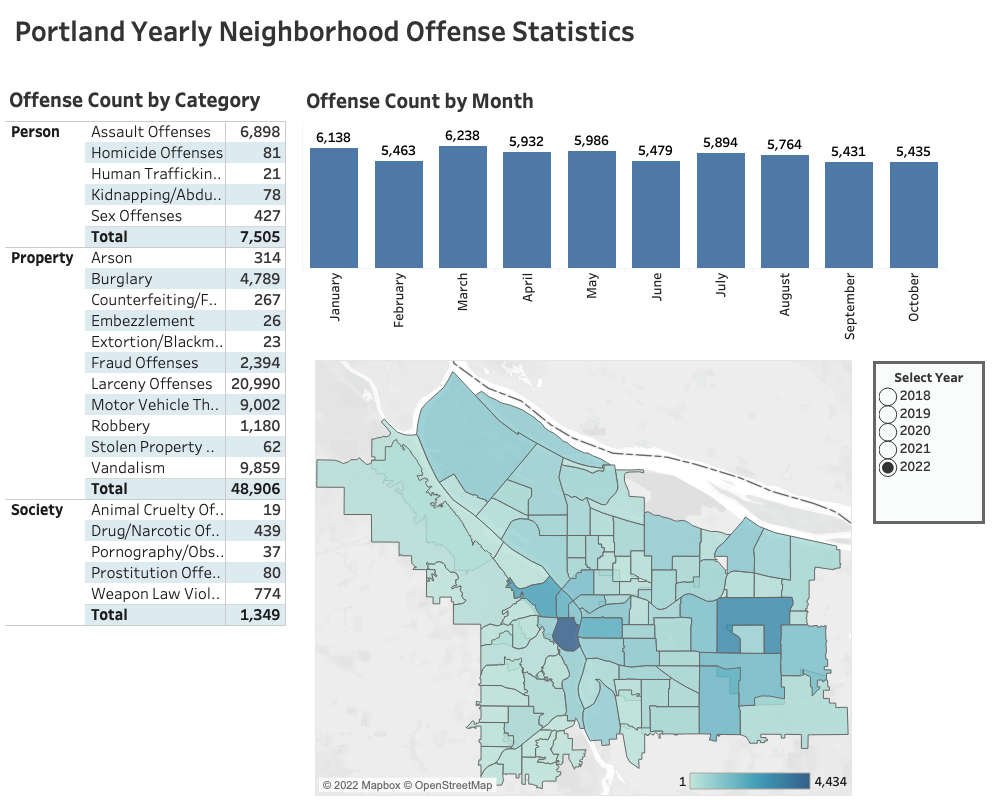

Layout of this report page (visuals, bound fields, positions):
{"tool":"tableau","page":{"name":"Portland Yearly Neighborhood Offense Statistics","canvas":[1000,800],"ordinal":0},"visuals":[{"type":"title","box":[8,8,984,45]},{"type":"worksheet","title":"text table","mark":"Automatic","rows":["CrimeAgainst","OffenseCategory"],"box":[5,79,294,655]},{"type":"worksheet","title":"bar chart","mark":"Bar","rows":["crime_data.csv_235DA9607FE041CC98B13282B5E77349"],"cols":["OccurDate"],"box":[302,80,644,268]},{"type":"worksheet","title":"map","mark":"Multipolygon","box":[315,360,537,436]},{"type":"filter","title":"text table","param":"[federated.0k8t8il1calelo126mpml11a2wkt].[yr:OccurDate:ok]","box":[873,361,112,163]},{"type":"legend","title":"map","param":"[federated.0k8t8il1calelo126mpml11a2wkt].[usr:Calculation_1133359037155926017:qk","box":[675,769,177,25]}]}

Visuals, with their boxes in screenshot pixels (x1, y1, x2, y2), scaled from the page's 1000x800 canvas onto the 1000x800 screenshot:
title: rect(8, 8, 992, 53)
"text table" worksheet: rect(5, 79, 299, 734)
"bar chart" worksheet (Bar marks): rect(302, 80, 946, 348)
"map" worksheet (Multipolygon marks): rect(315, 360, 852, 796)
"text table" filter: rect(873, 361, 985, 524)
"map" legend: rect(675, 769, 852, 794)
